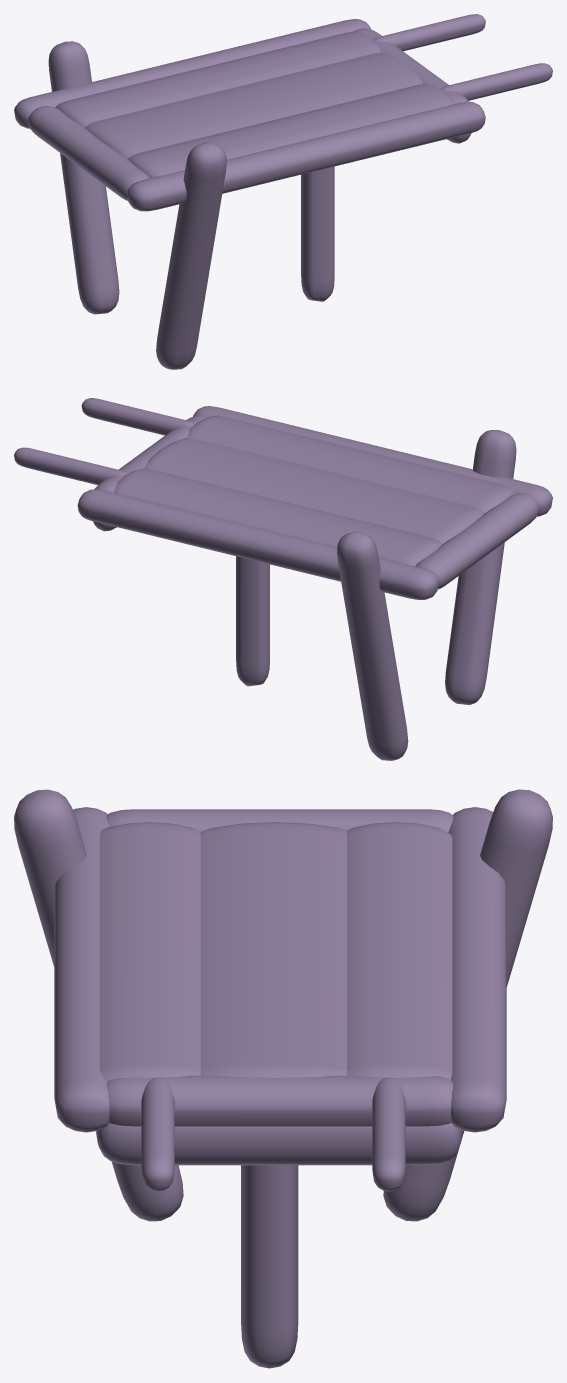
File: BaseTeam_Floor.fbx
The picture shows the model from 3 angles, top to bottom: view 1: azimuth 30°, elevation 25°; view 2: azimuth 150°, elevation 25°; view 3: azimuth 270°, elevation 25°; orthographic projection. The views are drawn at different scales.
Parts seen in each view (by area): view 1: polySurface3175, polySurface3177, polySurface3180, polySurface3174, polySurface3176, polySurface3181, polySurface3178, polySurface3182, polySurface3179, polySurface3170, polySurface3173, polySurface3171; view 2: polySurface3175, polySurface3178, polySurface3174, polySurface3181, polySurface3176, polySurface3180, polySurface3179, polySurface3182, polySurface3177, polySurface3173, polySurface3170, polySurface3171; view 3: polySurface3175, polySurface3174, polySurface3176, polySurface3178, polySurface3171, polySurface3177, polySurface3172, polySurface3182, polySurface3181, polySurface3180, polySurface3179, polySurface3173 (+1 smaller).
Part boxes in pixels (x1,y1,x2,y2): polySurface3175: (85, 52, 422, 158); polySurface3177: (127, 101, 485, 211); polySurface3180: (156, 142, 226, 369); polySurface3174: (55, 31, 380, 127); polySurface3176: (128, 84, 454, 177); polySurface3181: (48, 41, 119, 314); polySurface3178: (14, 19, 371, 128); polySurface3182: (301, 166, 334, 301); polySurface3179: (28, 105, 149, 200); polySurface3170: (441, 63, 552, 100); polySurface3173: (374, 14, 485, 51); polySurface3171: (353, 28, 468, 103); polySurface3175: (144, 437, 484, 543); polySurface3178: (77, 489, 438, 599); polySurface3174: (114, 468, 442, 566); polySurface3181: (337, 531, 408, 760); polySurface3176: (187, 415, 514, 512); polySurface3180: (445, 430, 516, 704); polySurface3179: (415, 493, 539, 589); polySurface3182: (236, 556, 269, 686); polySurface3177: (193, 406, 552, 516); polySurface3173: (14, 447, 126, 484); polySurface3170: (81, 398, 194, 435); polySurface3171: (94, 415, 208, 492); polySurface3175: (200, 822, 346, 1077); polySurface3174: (347, 822, 452, 1079); polySurface3176: (99, 822, 200, 1081); polySurface3178: (448, 807, 506, 1132); polySurface3171: (106, 1075, 453, 1126); polySurface3177: (54, 807, 110, 1132); polySurface3172: (96, 1123, 461, 1165); polySurface3182: (241, 1165, 298, 1368); polySurface3181: (383, 789, 552, 1221); polySurface3180: (14, 789, 183, 1221); polySurface3179: (106, 809, 453, 832); polySurface3173: (372, 1077, 405, 1191).
Size of the model in its own units: 3229 by 1724 by 1979.
